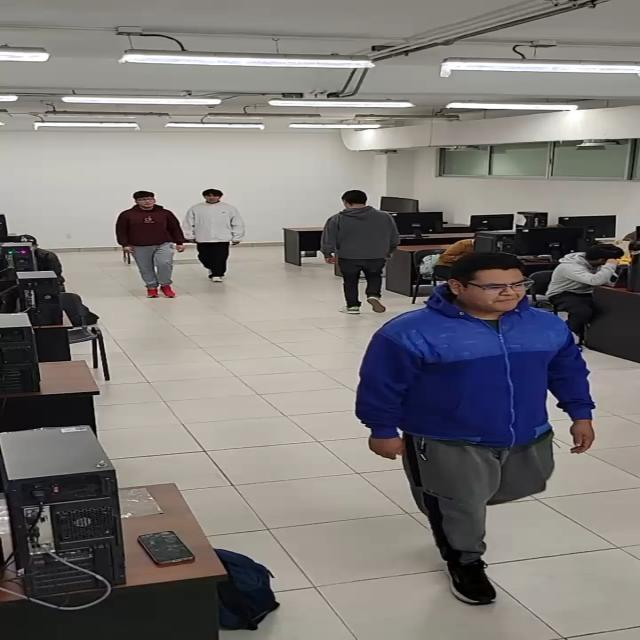Persona: (355, 251, 597, 606), (321, 189, 402, 315), (116, 190, 186, 299), (184, 189, 247, 283)
